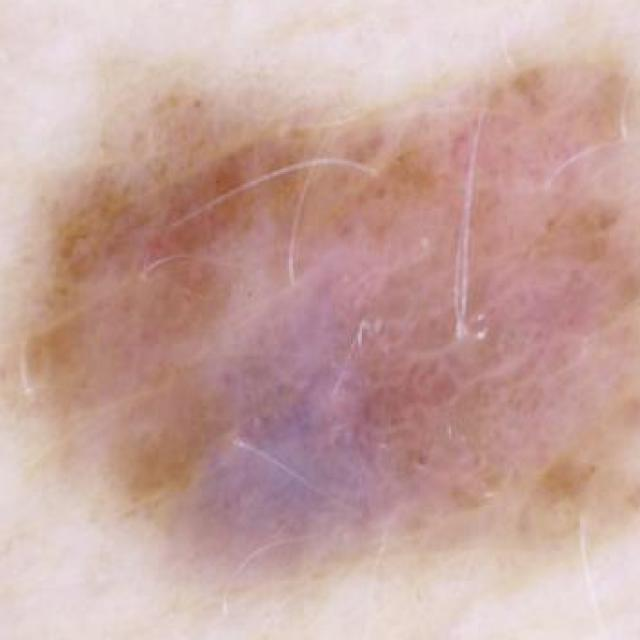NV: (5, 52, 640, 640)
